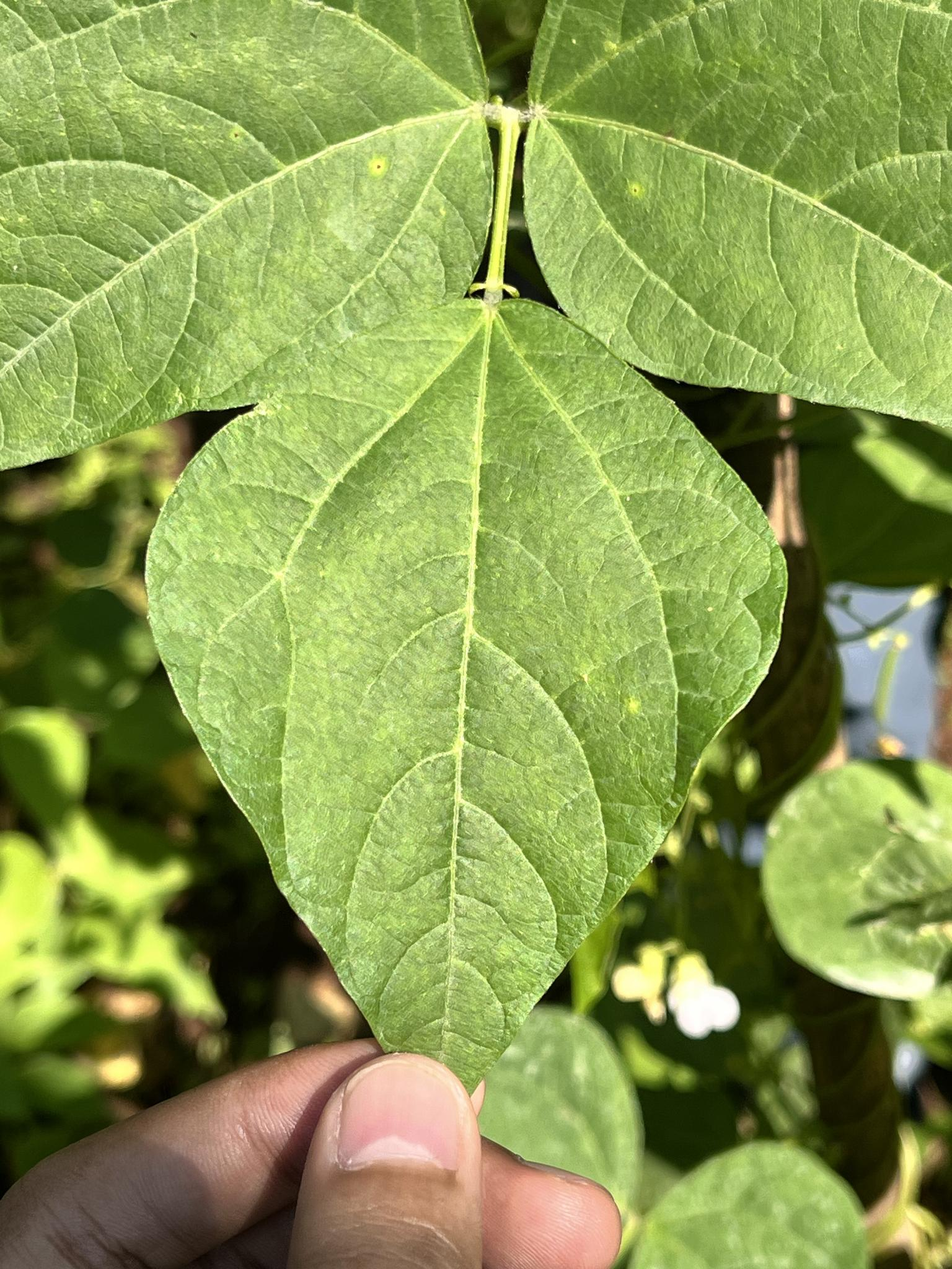sehat: (146, 291, 784, 1091)
